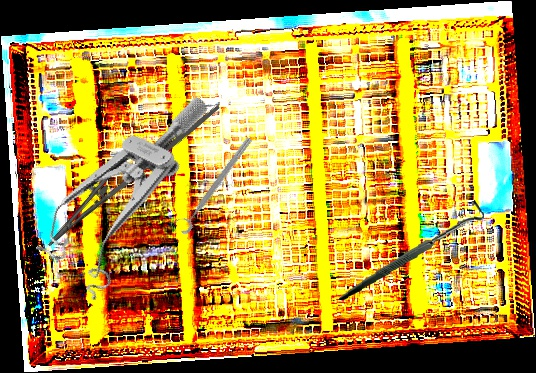Fixation Ring: (171, 130, 255, 237)
Hook Surgical: (333, 199, 489, 301)
Needle Holder: (35, 74, 221, 266)
Speculum: (25, 60, 211, 313)
